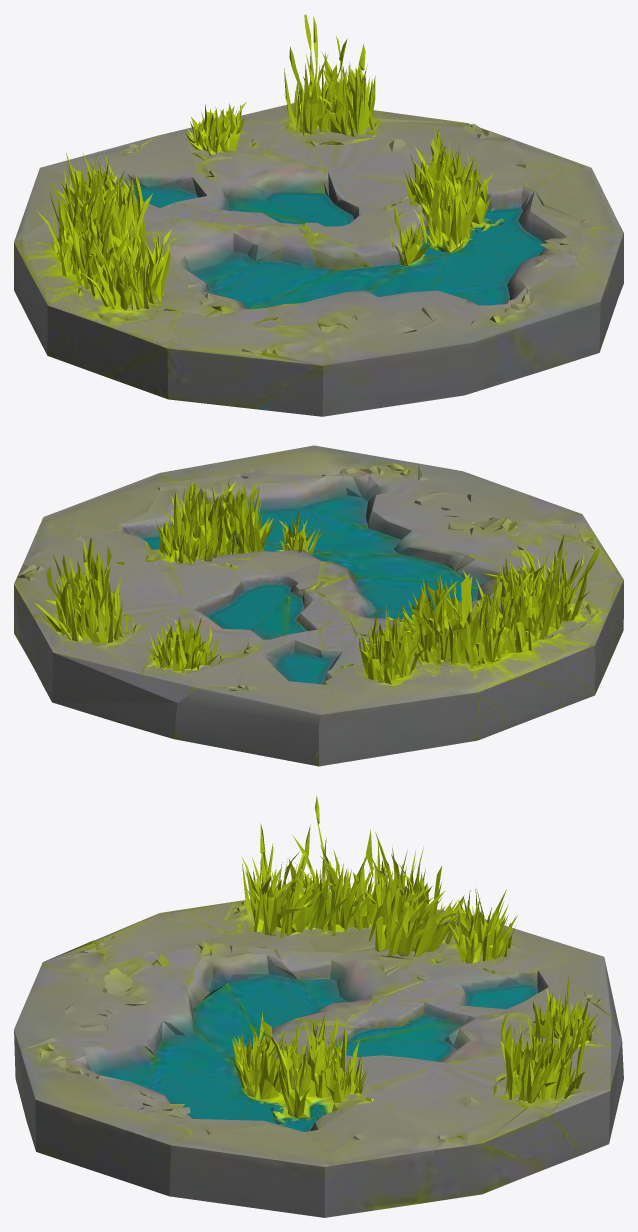
Rendered from zona_umida.glb.
The picture shows the model from 3 angles, top to bottom: view 1: azimuth 30°, elevation 25°; view 2: azimuth 150°, elevation 25°; view 3: azimuth 270°, elevation 25°; orthographic projection. The views are drawn at different scales.
Size of the model in its own units: 1.9 by 0.5218 by 1.78.
Materials: 1 (1 with a texture image).
